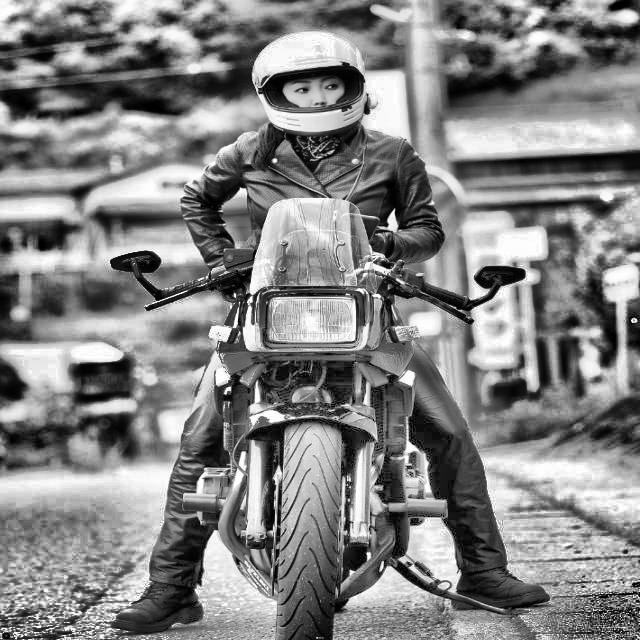Helmet: (246, 26, 374, 141)
